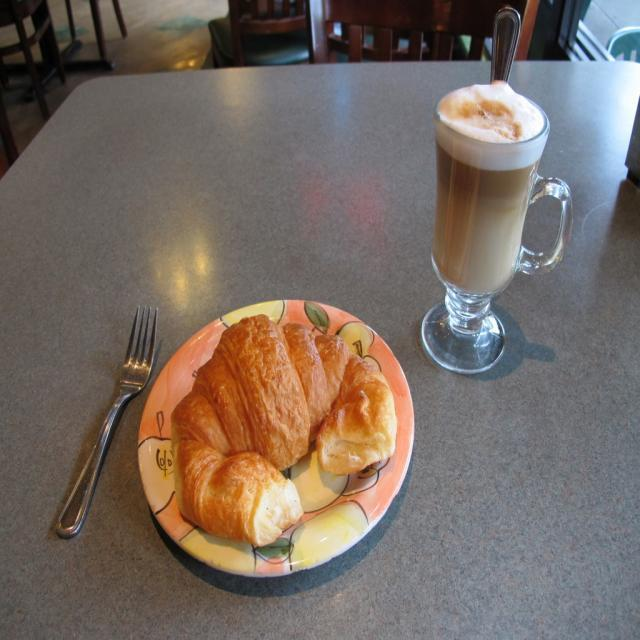Croissant: (168, 322, 399, 551)
